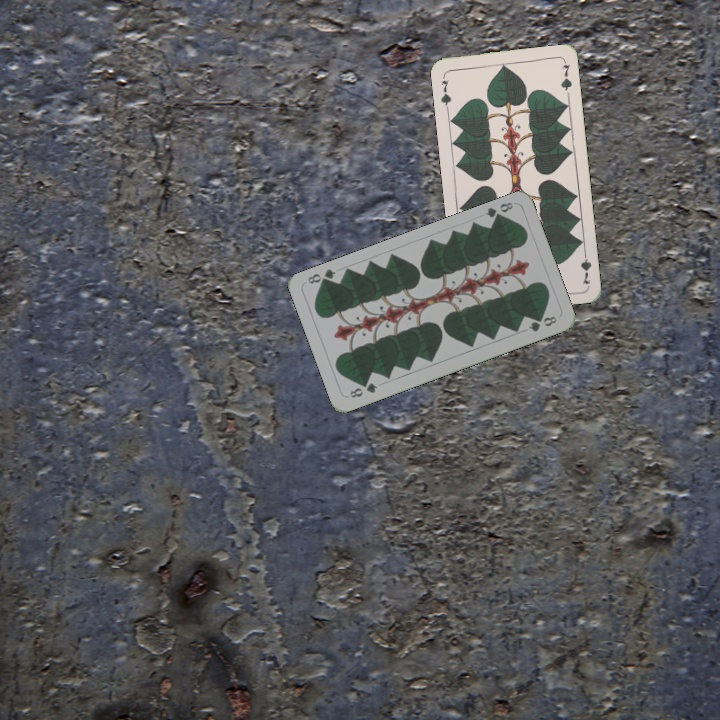G7: (576, 246, 594, 287), (437, 76, 454, 112)
G8: (481, 198, 516, 224), (345, 379, 380, 401)
